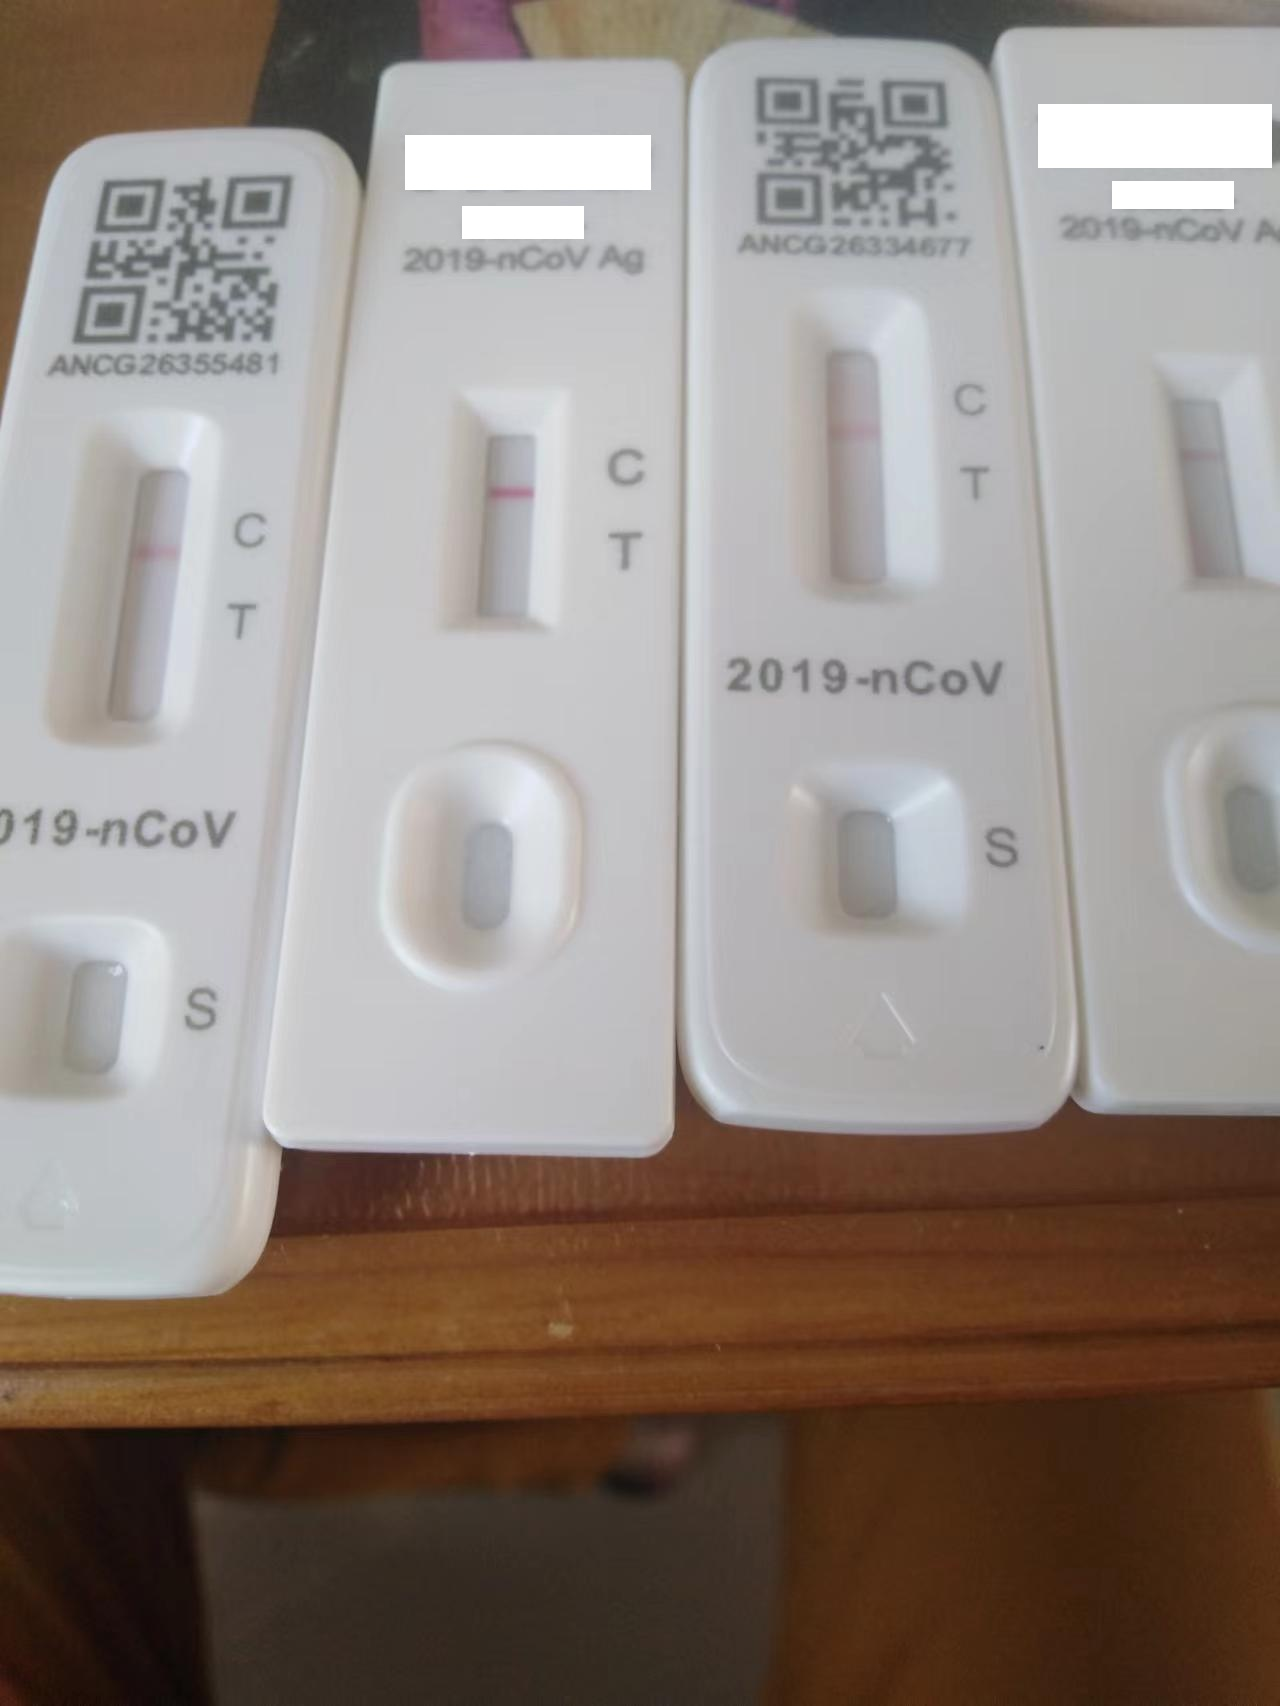negative: (67, 419, 214, 753), (789, 290, 929, 618), (454, 386, 567, 640), (1156, 356, 1260, 604)
